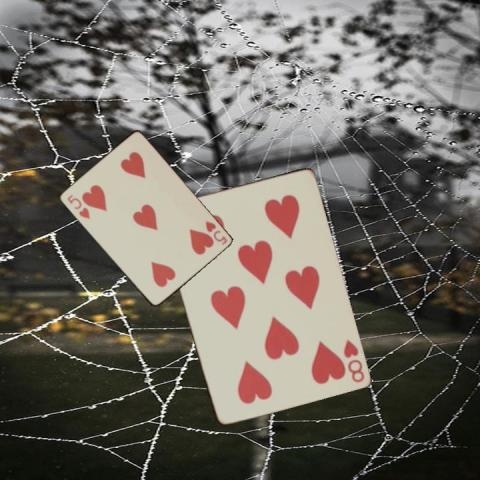5h: (64, 191, 91, 220), (202, 218, 228, 247)
8h: (340, 336, 365, 384)
